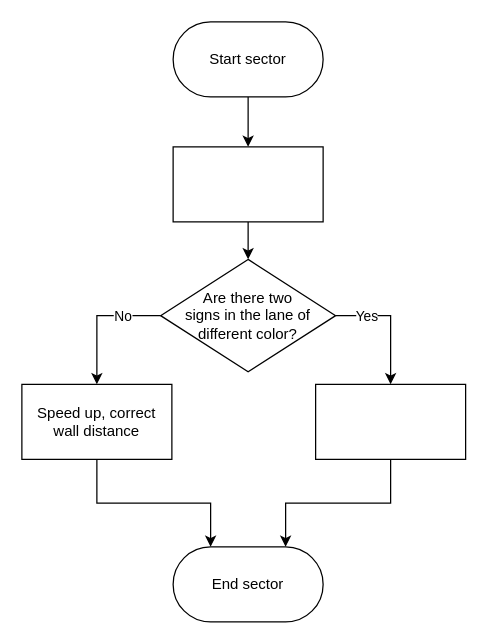
This 488x644 diagram has some shape labels left out. Here are the shapes that lost their labels. From the top down, the box of each, then its label:
(172, 146, 323, 222): Turn corner according to getFirstTurntarget
(314, 383, 466, 459): Switch lane, avoiding 3rd obstacle
